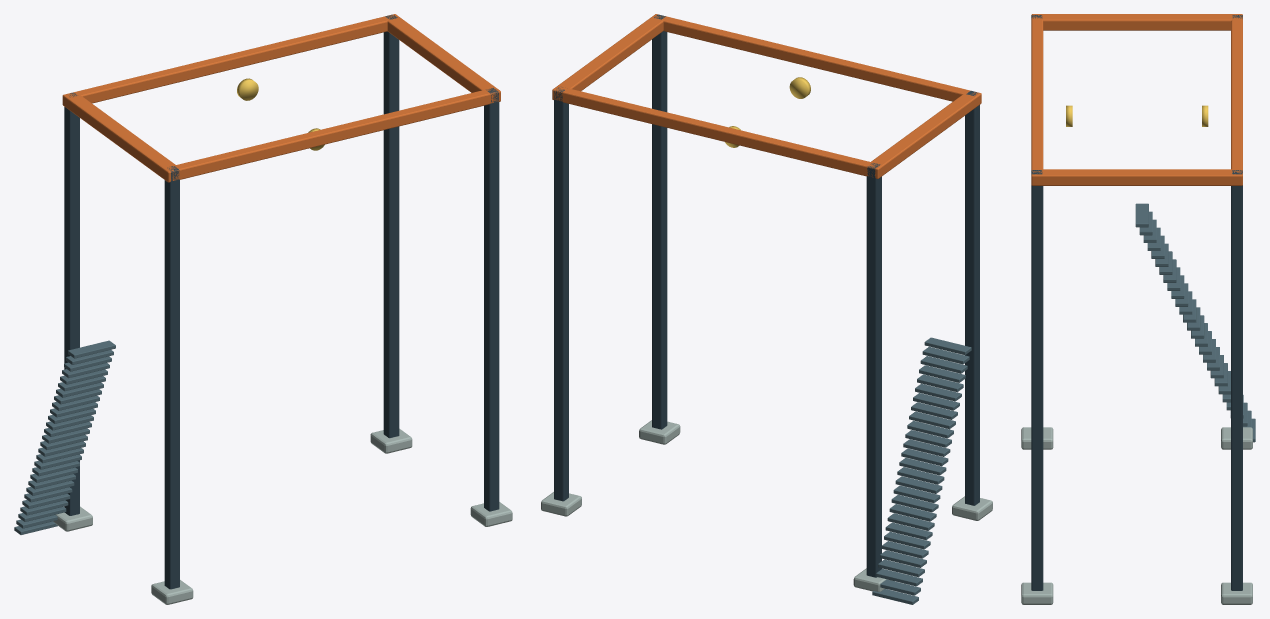
File: lift-frame.glb
The picture shows the model from 3 angles, left to right: view 1: azimuth 30°, elevation 25°; view 2: azimuth 150°, elevation 25°; view 3: azimuth 270°, elevation 25°; orthographic projection. The views are drawn at different scales.
Parts seen in each view (by area): view 1: tyaga-lift-frame-surface; view 2: tyaga-lift-frame-surface; view 3: tyaga-lift-frame-surface.
Boxes of the visible parts, <box> form: tyaga-lift-frame-surface: <box>14,14,512,604</box>; tyaga-lift-frame-surface: <box>541,14,992,604</box>; tyaga-lift-frame-surface: <box>1021,14,1255,604</box>.
Bounding box in the file's own units: 11 × 11.85 × 5.87.
